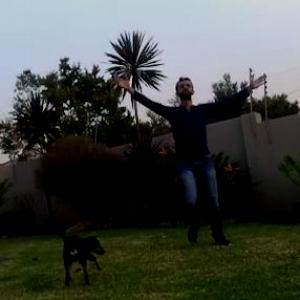takeoff: (123, 80, 264, 226)
